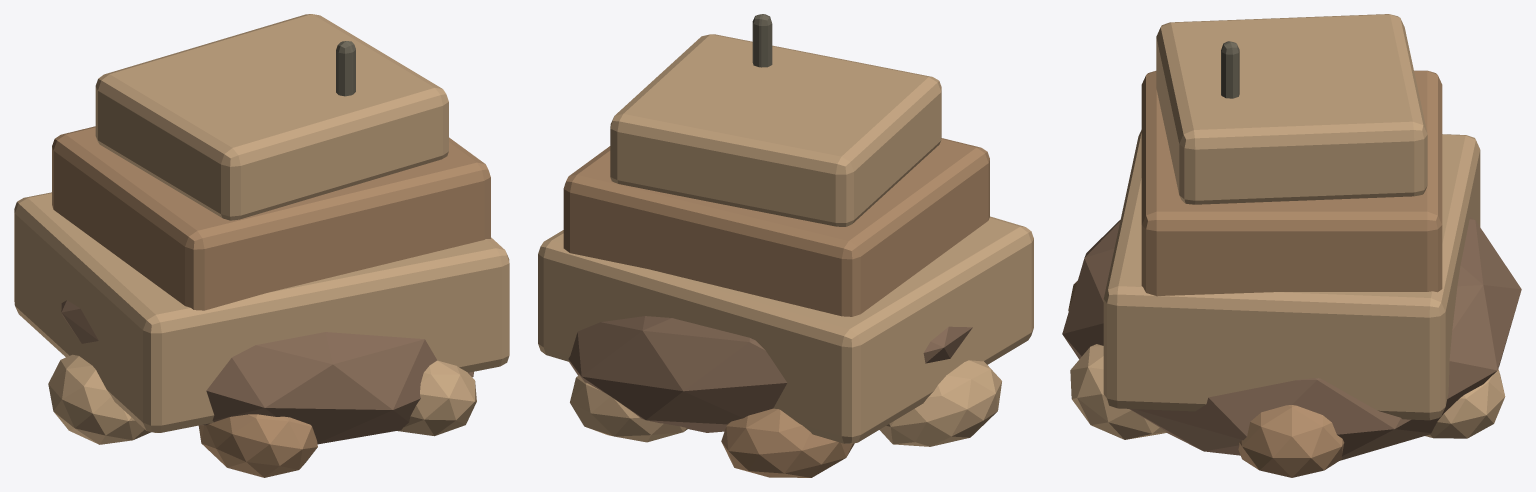
File: storybook_quarry_outcrop_v1.glb
The picture shows the model from 3 angles, left to right: view 1: azimuth 30°, elevation 25°; view 2: azimuth 150°, elevation 25°; view 3: azimuth 270°, elevation 25°; orthographic projection. The views are drawn at different scales.
Parts seen in each view (by area): view 1: quarry_outcrop warmstone, quarry_outcrop sandstone, quarry_outcrop darkstone, quarry_outcrop iron; view 2: quarry_outcrop warmstone, quarry_outcrop sandstone, quarry_outcrop darkstone, quarry_outcrop iron; view 3: quarry_outcrop warmstone, quarry_outcrop sandstone, quarry_outcrop darkstone, quarry_outcrop iron.
Boxes of the visible parts, x1=… form: quarry_outcrop warmstone: x1=14, y1=14, x2=509, y2=444; quarry_outcrop sandstone: x1=52, y1=126, x2=490, y2=477; quarry_outcrop darkstone: x1=61, y1=300, x2=473, y2=444; quarry_outcrop iron: x1=336, y1=41, x2=355, y2=96; quarry_outcrop warmstone: x1=538, y1=34, x2=1033, y2=446; quarry_outcrop sandstone: x1=563, y1=138, x2=989, y2=477; quarry_outcrop darkstone: x1=568, y1=316, x2=972, y2=432; quarry_outcrop iron: x1=752, y1=14, x2=772, y2=67; quarry_outcrop warmstone: x1=1070, y1=14, x2=1505, y2=439; quarry_outcrop sandstone: x1=1068, y1=70, x2=1442, y2=477; quarry_outcrop darkstone: x1=1062, y1=217, x2=1521, y2=460; quarry_outcrop iron: x1=1221, y1=41, x2=1239, y2=98.
Size of the model in its own units: 1.87 by 1.5 by 1.71.
